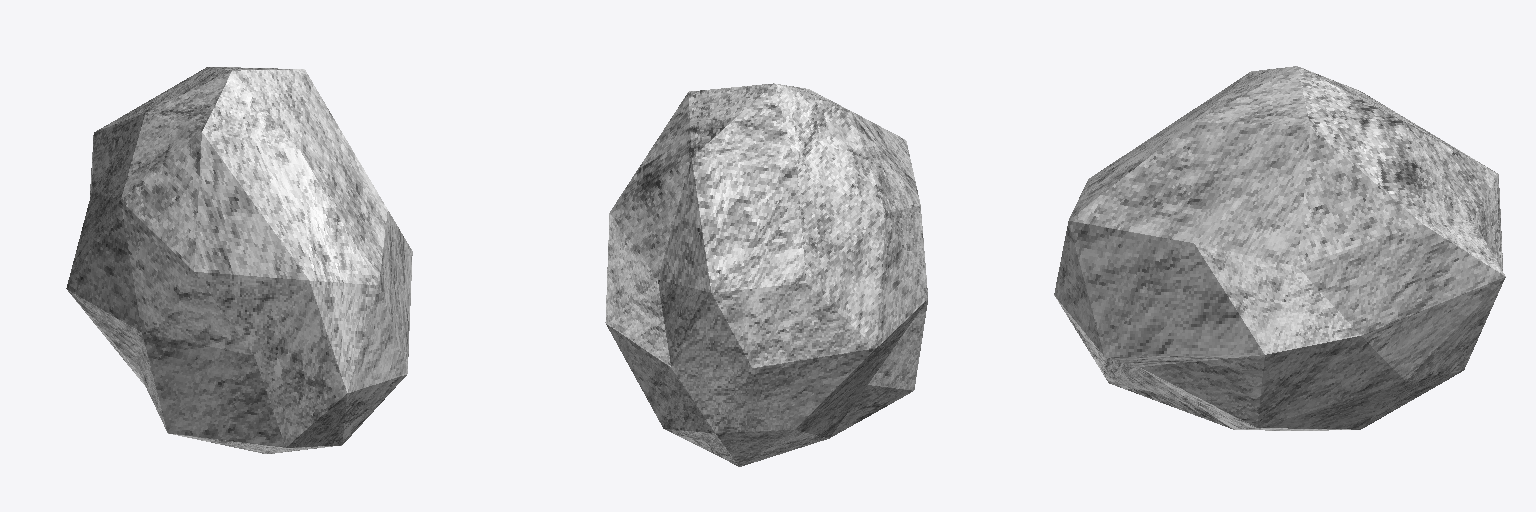
3 views of the same model, side by side, from view 1: azimuth 30°, elevation 25°; view 2: azimuth 150°, elevation 25°; view 3: azimuth 270°, elevation 25° (orthographic).
Visible parts, largest first — view 1: ICO球; view 2: ICO球; view 3: ICO球.
Part boxes in pixels (x1,y1,x2,y2): ICO球: (66,67,412,453); ICO球: (605,83,927,466); ICO球: (1054,66,1505,430).
Bounding box in the file's own units: 6.17 × 7.22 × 8.09.
1 materials, 1 textured.